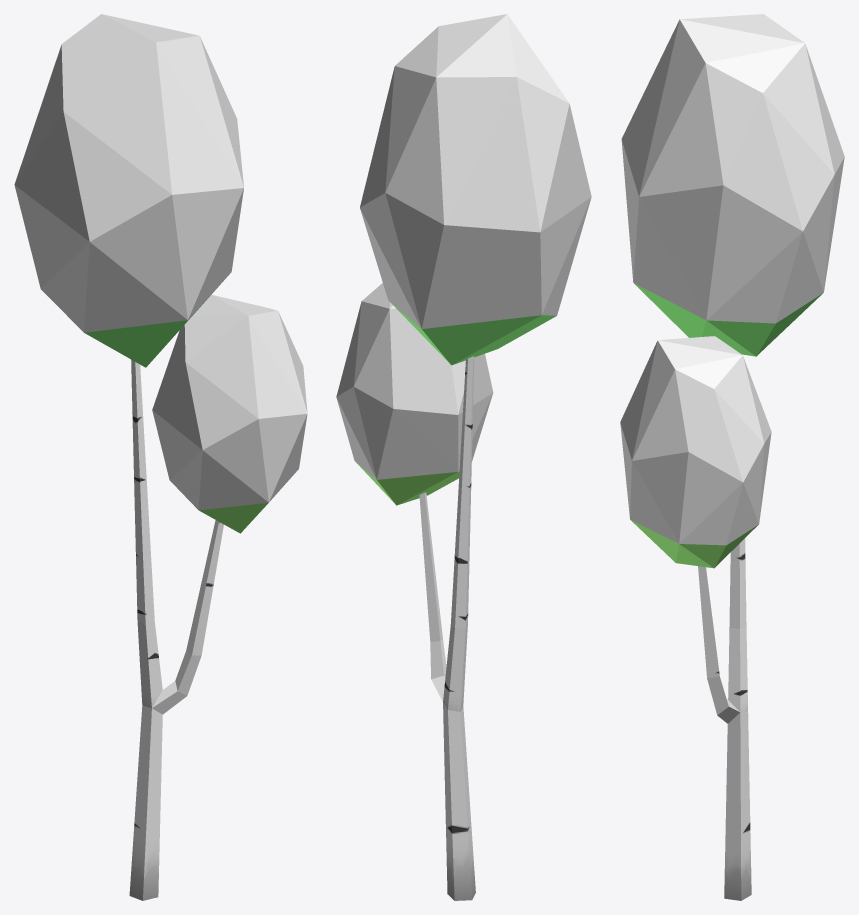
File: Birch_Tree_m_Snow_01.fbx
3 views of the same model, side by side, from view 1: azimuth 30°, elevation 25°; view 2: azimuth 150°, elevation 25°; view 3: azimuth 270°, elevation 25° (orthographic).
Parts seen in each view (by area): view 1: Birch_Tree_m_Snow_01; view 2: Birch_Tree_m_Snow_01; view 3: Birch_Tree_m_Snow_01.
Boxes of the visible parts, x1,y1,x2,y2 form: Birch_Tree_m_Snow_01: [14, 14, 307, 900]; Birch_Tree_m_Snow_01: [336, 14, 591, 900]; Birch_Tree_m_Snow_01: [620, 14, 844, 900].
Bounding box in the file's own units: 264 × 924 × 217.
